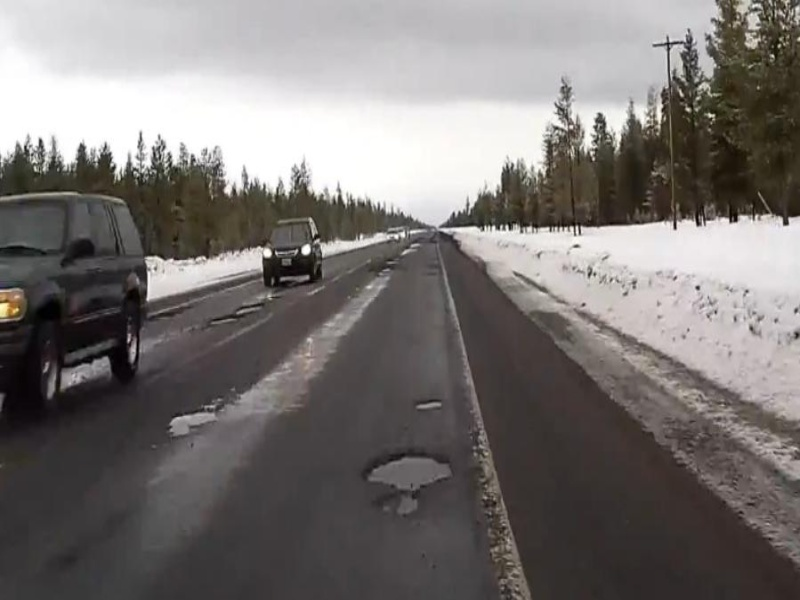pothole: (364, 446, 456, 489), (163, 400, 226, 440), (369, 491, 427, 518), (203, 315, 236, 329), (232, 303, 262, 317)
